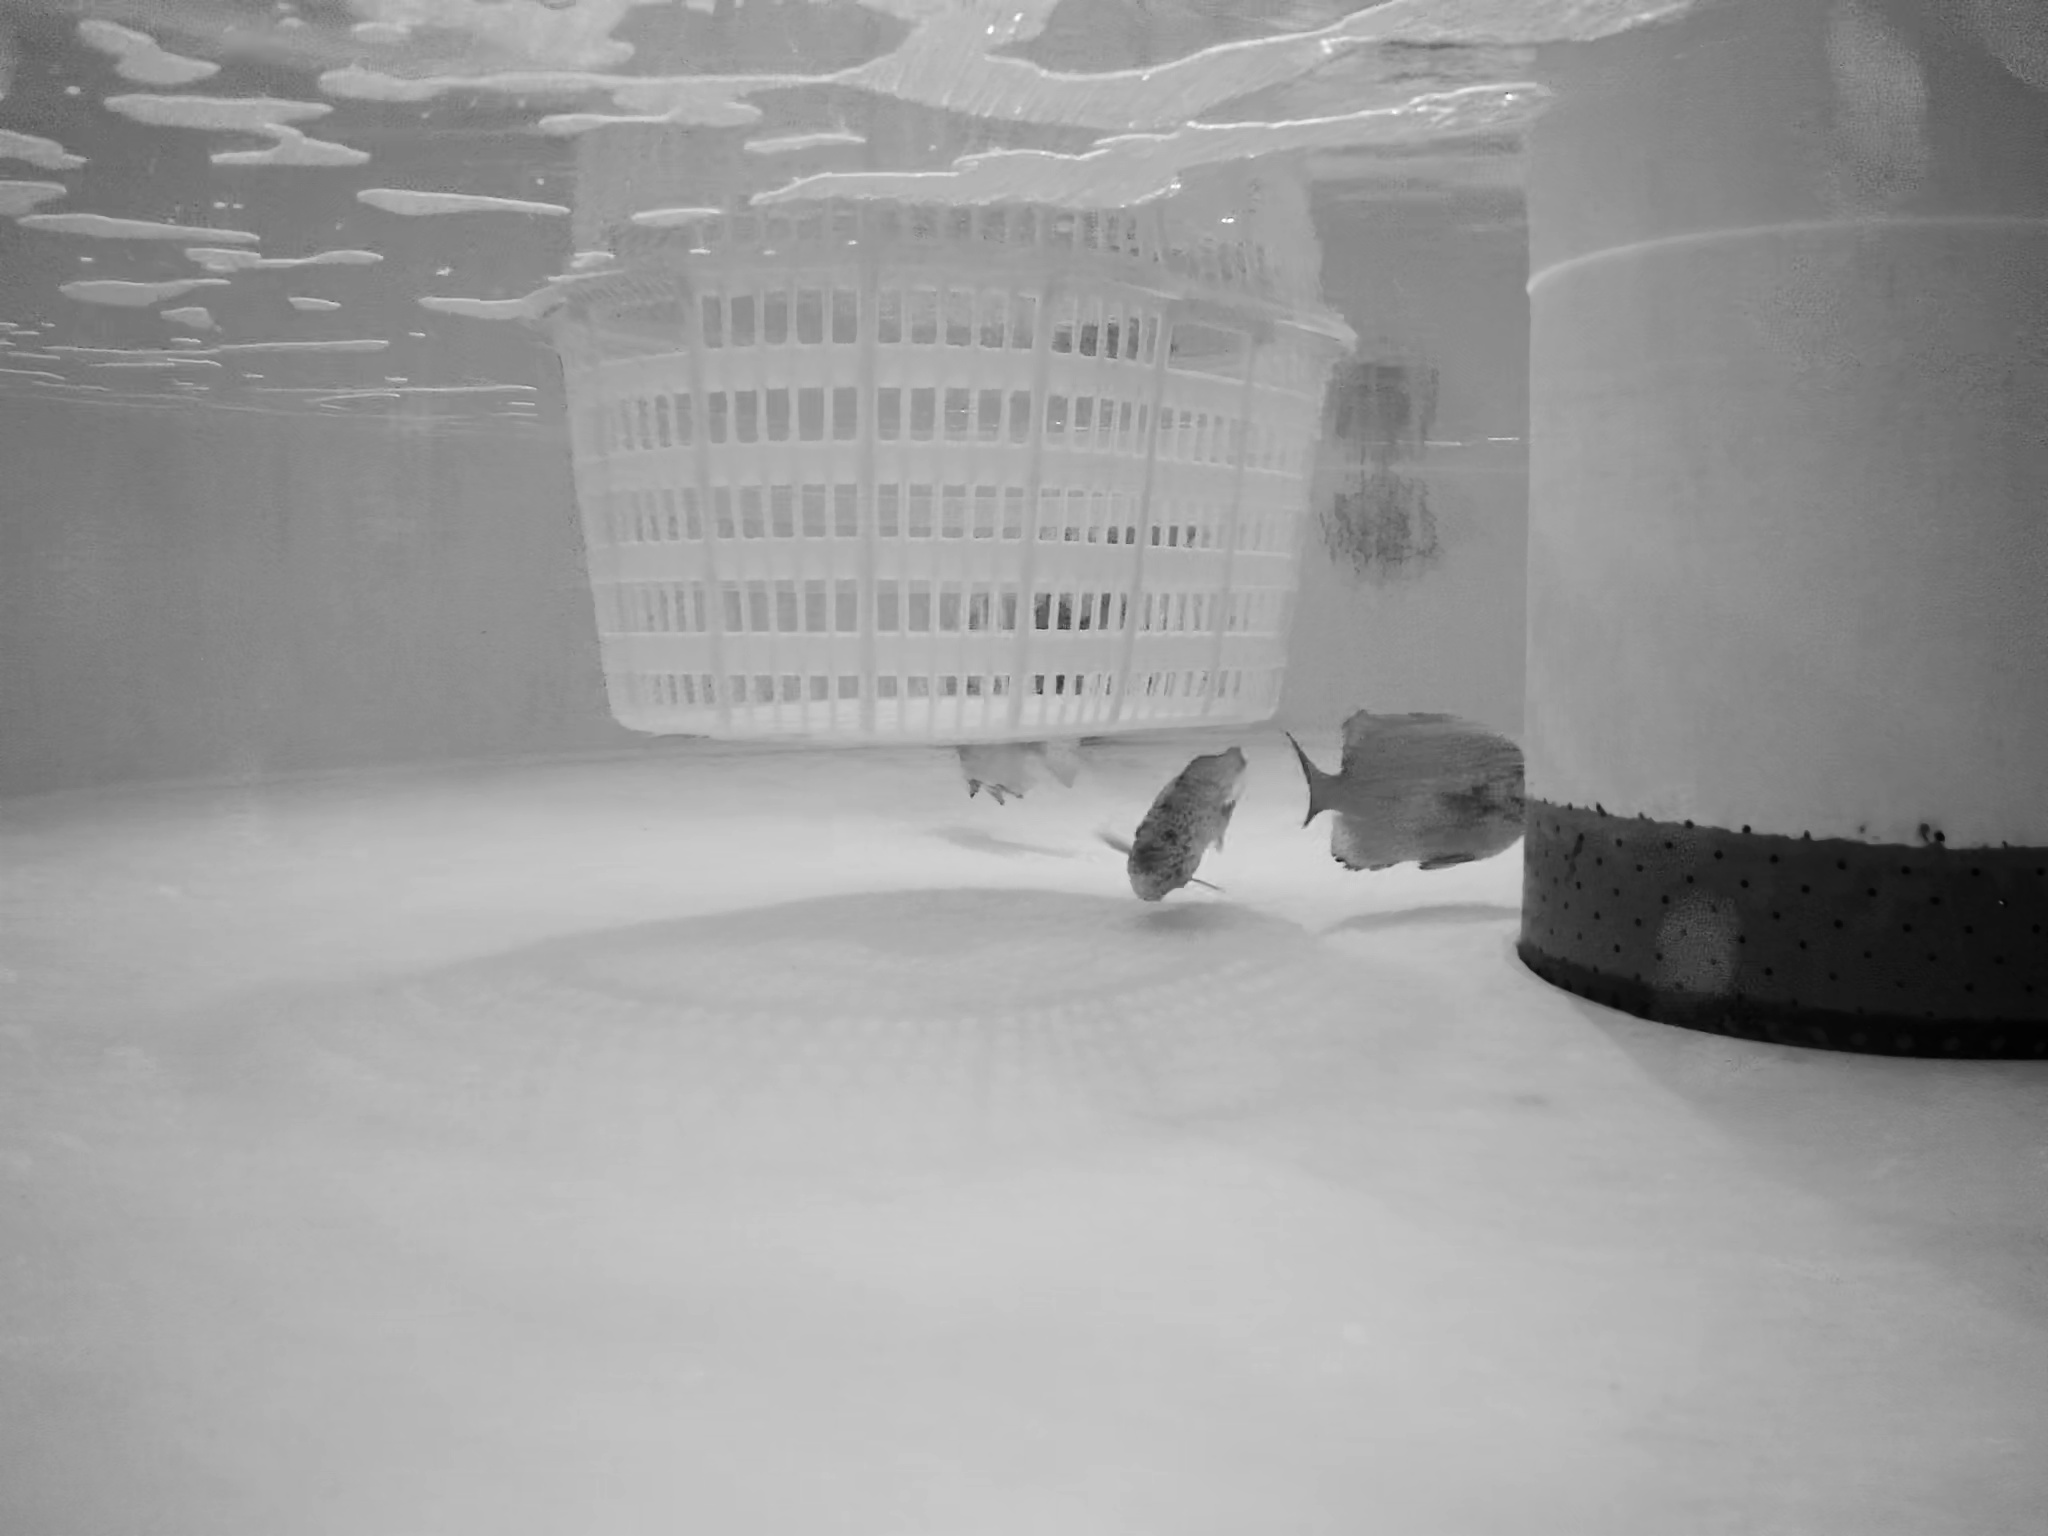fish: (1295, 692, 1526, 886), (1114, 731, 1243, 918), (1032, 574, 1114, 792), (955, 608, 1032, 810)
